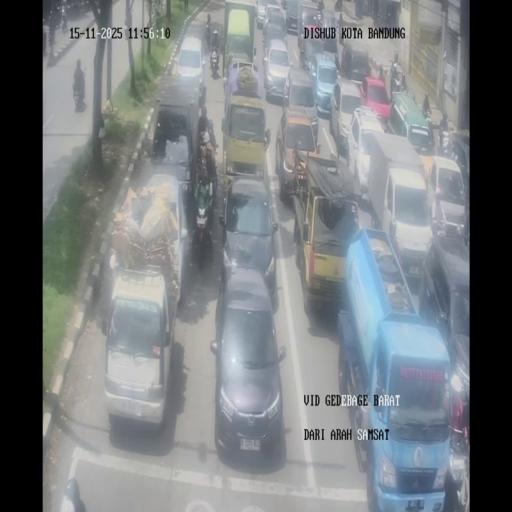car: (210, 270, 286, 463), (103, 264, 177, 432), (218, 176, 279, 302), (427, 155, 467, 236), (332, 78, 365, 155), (282, 64, 318, 134), (172, 35, 206, 103), (310, 53, 340, 117), (262, 38, 292, 101), (359, 76, 392, 124), (341, 42, 370, 84), (298, 5, 324, 48), (320, 9, 340, 53), (255, 0, 274, 28), (284, 0, 300, 33)
motorcycle: (444, 398, 470, 508), (190, 197, 213, 269), (72, 74, 86, 111), (205, 118, 218, 154), (437, 131, 453, 159), (422, 110, 434, 146), (299, 36, 311, 70), (390, 69, 404, 96), (210, 50, 220, 78), (211, 27, 220, 52), (48, 19, 56, 46), (336, 12, 344, 37), (205, 24, 212, 50), (60, 10, 68, 32), (312, 0, 324, 12), (378, 63, 385, 83), (334, 52, 340, 74), (42, 26, 46, 56), (76, 0, 83, 14), (334, 0, 342, 11), (206, 13, 210, 26)
truck: (338, 234, 451, 508), (296, 159, 365, 318), (362, 133, 430, 265), (150, 90, 202, 220), (221, 91, 268, 194), (223, 5, 254, 82)
